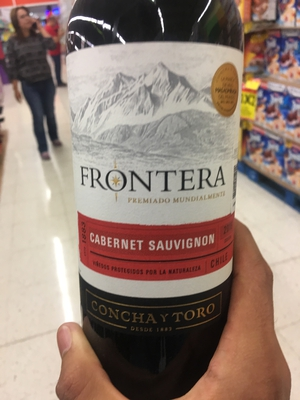frontera cabernet sauvignon: (65, 9, 260, 367)
